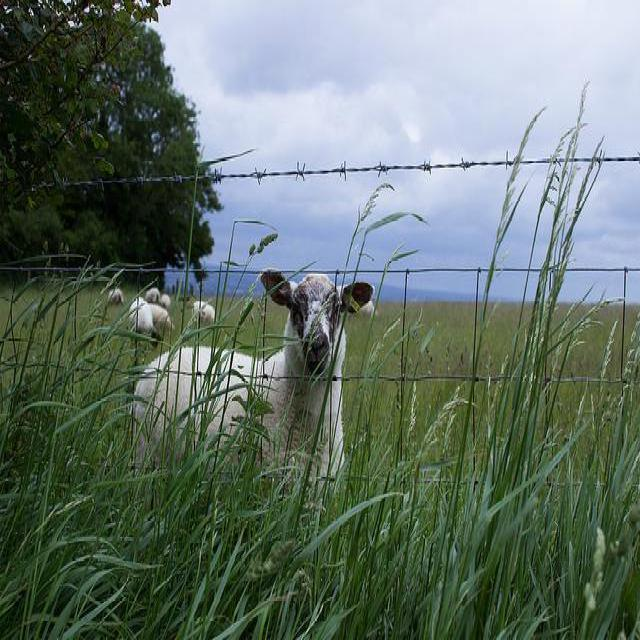Sheep: (129, 269, 376, 500), (129, 296, 163, 350)
